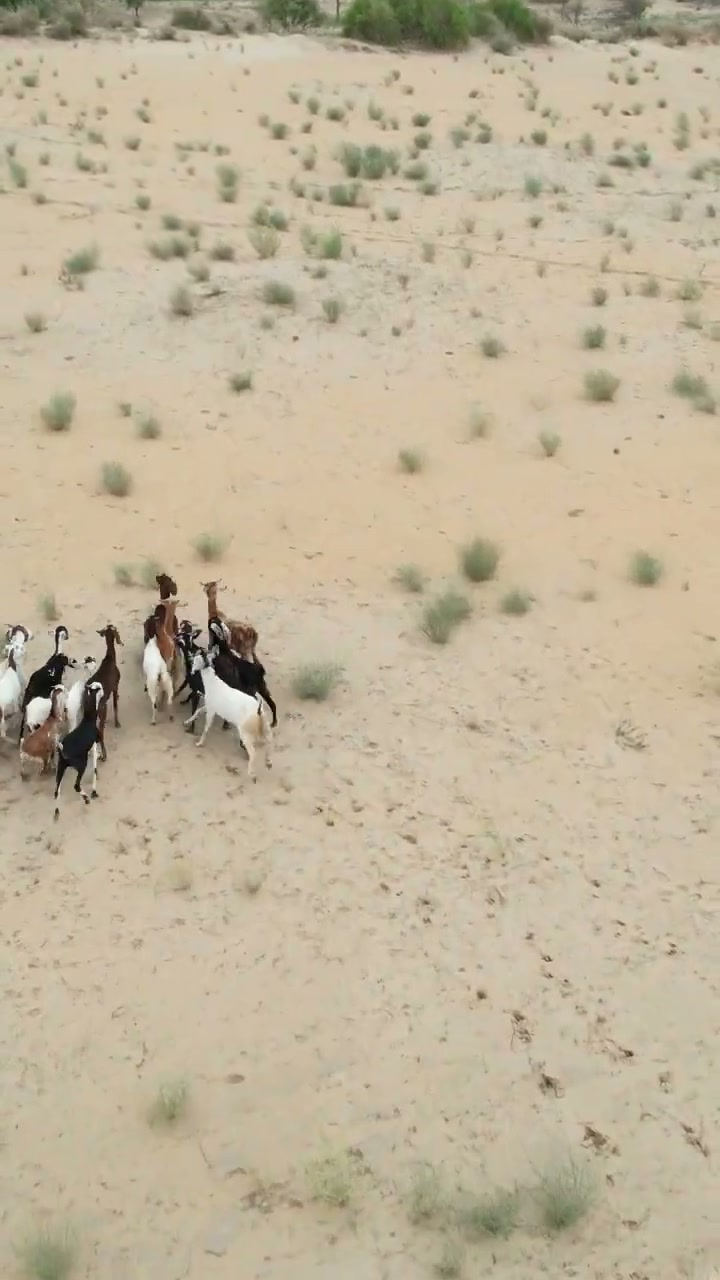animal_foot_print: (18, 760, 712, 1204)
